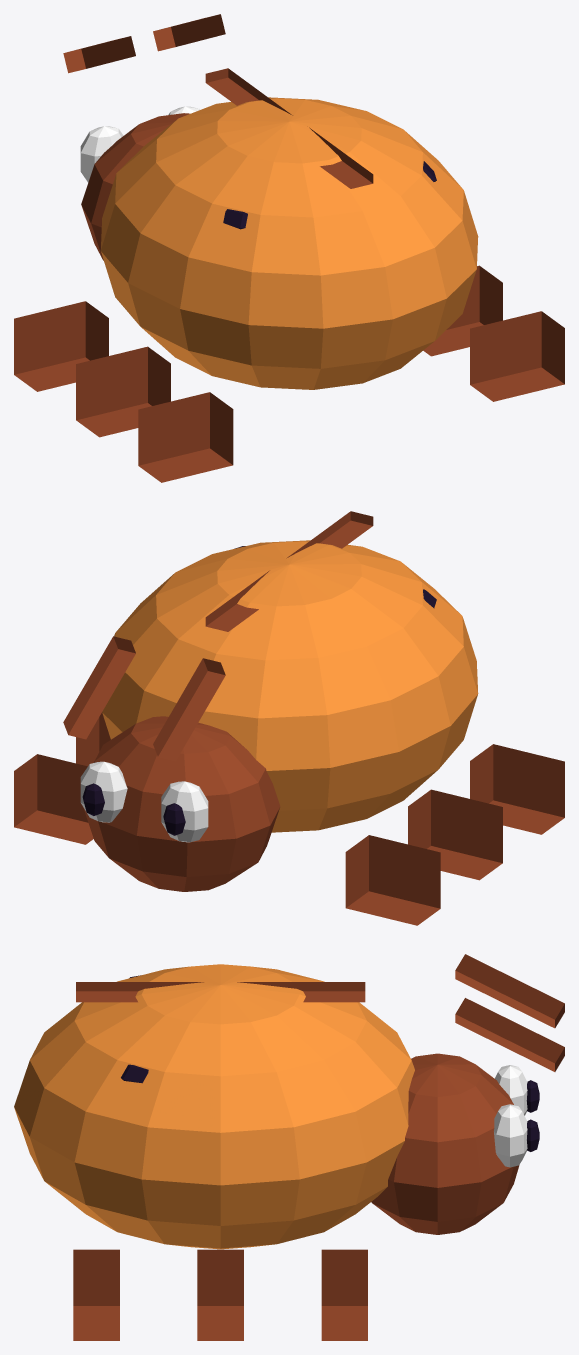
File: hop_beetle.glb
3 views of the same model, one above another, from view 1: azimuth 30°, elevation 25°; view 2: azimuth 150°, elevation 25°; view 3: azimuth 270°, elevation 25° (orthographic).
Visible parts, largest first — view 1: hop_beetle; view 2: hop_beetle; view 3: hop_beetle.
Boxes of the visible parts, x1=… form: hop_beetle: x1=14, y1=14, x2=564, y2=482; hop_beetle: x1=14, y1=511, x2=564, y2=925; hop_beetle: x1=14, y1=954, x2=564, y2=1340.
Size of the model in its own units: 0.9 by 0.5603 by 1.07.
